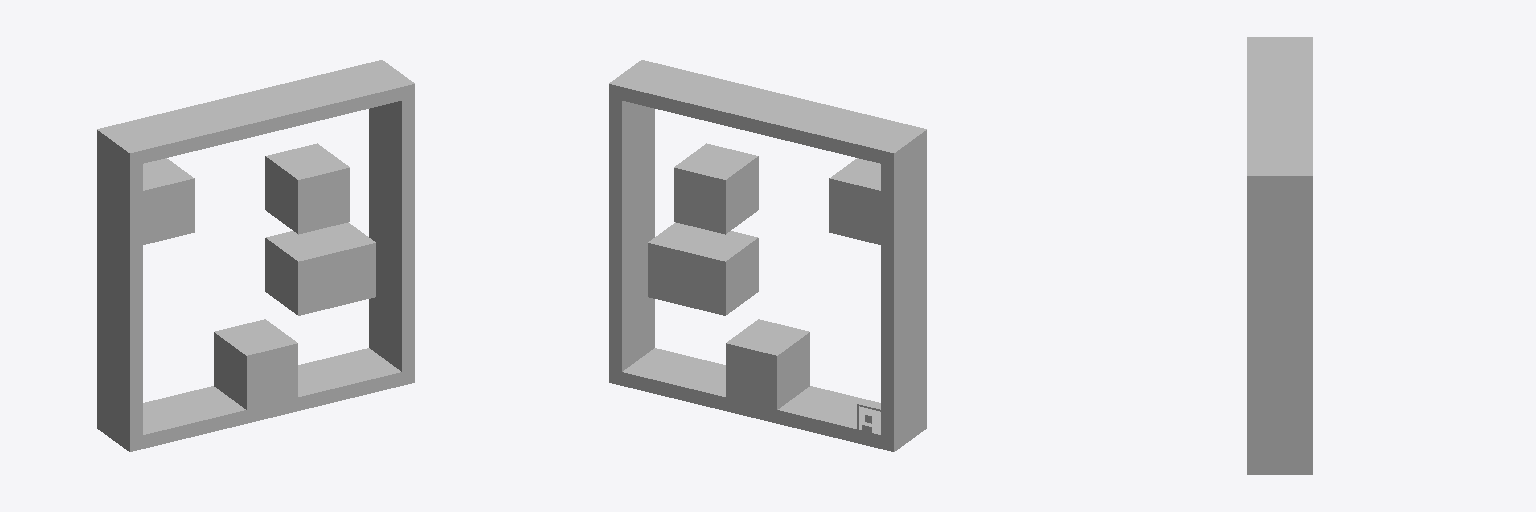
Rendered from Room36.obj.
3 views of the same model, side by side, from view 1: azimuth 30°, elevation 25°; view 2: azimuth 150°, elevation 25°; view 3: azimuth 270°, elevation 25° (orthographic).
Parts seen in each view (by area): view 1: Curve.002_mesh_Curve.002; view 2: Curve.002_mesh_Curve.002; view 3: Curve.002_mesh_Curve.002.
Part boxes in pixels (x1,y1,x2,y2): Curve.002_mesh_Curve.002: (97,60,414,451); Curve.002_mesh_Curve.002: (609,60,926,451); Curve.002_mesh_Curve.002: (1247,37,1312,474).
Size of the model in its own units: 1 by 1 by 0.2.